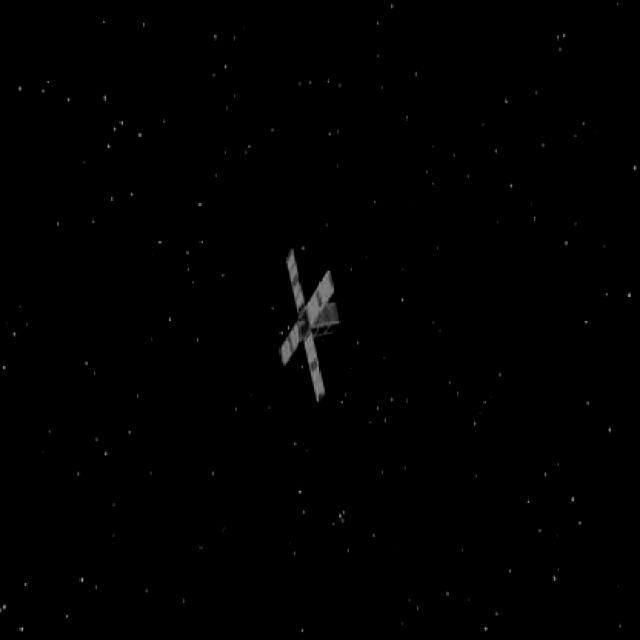satellite: (261, 250, 352, 402)
